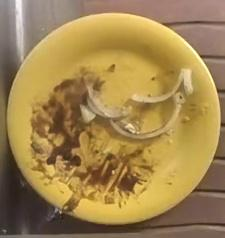onions: (79, 68, 192, 139)
